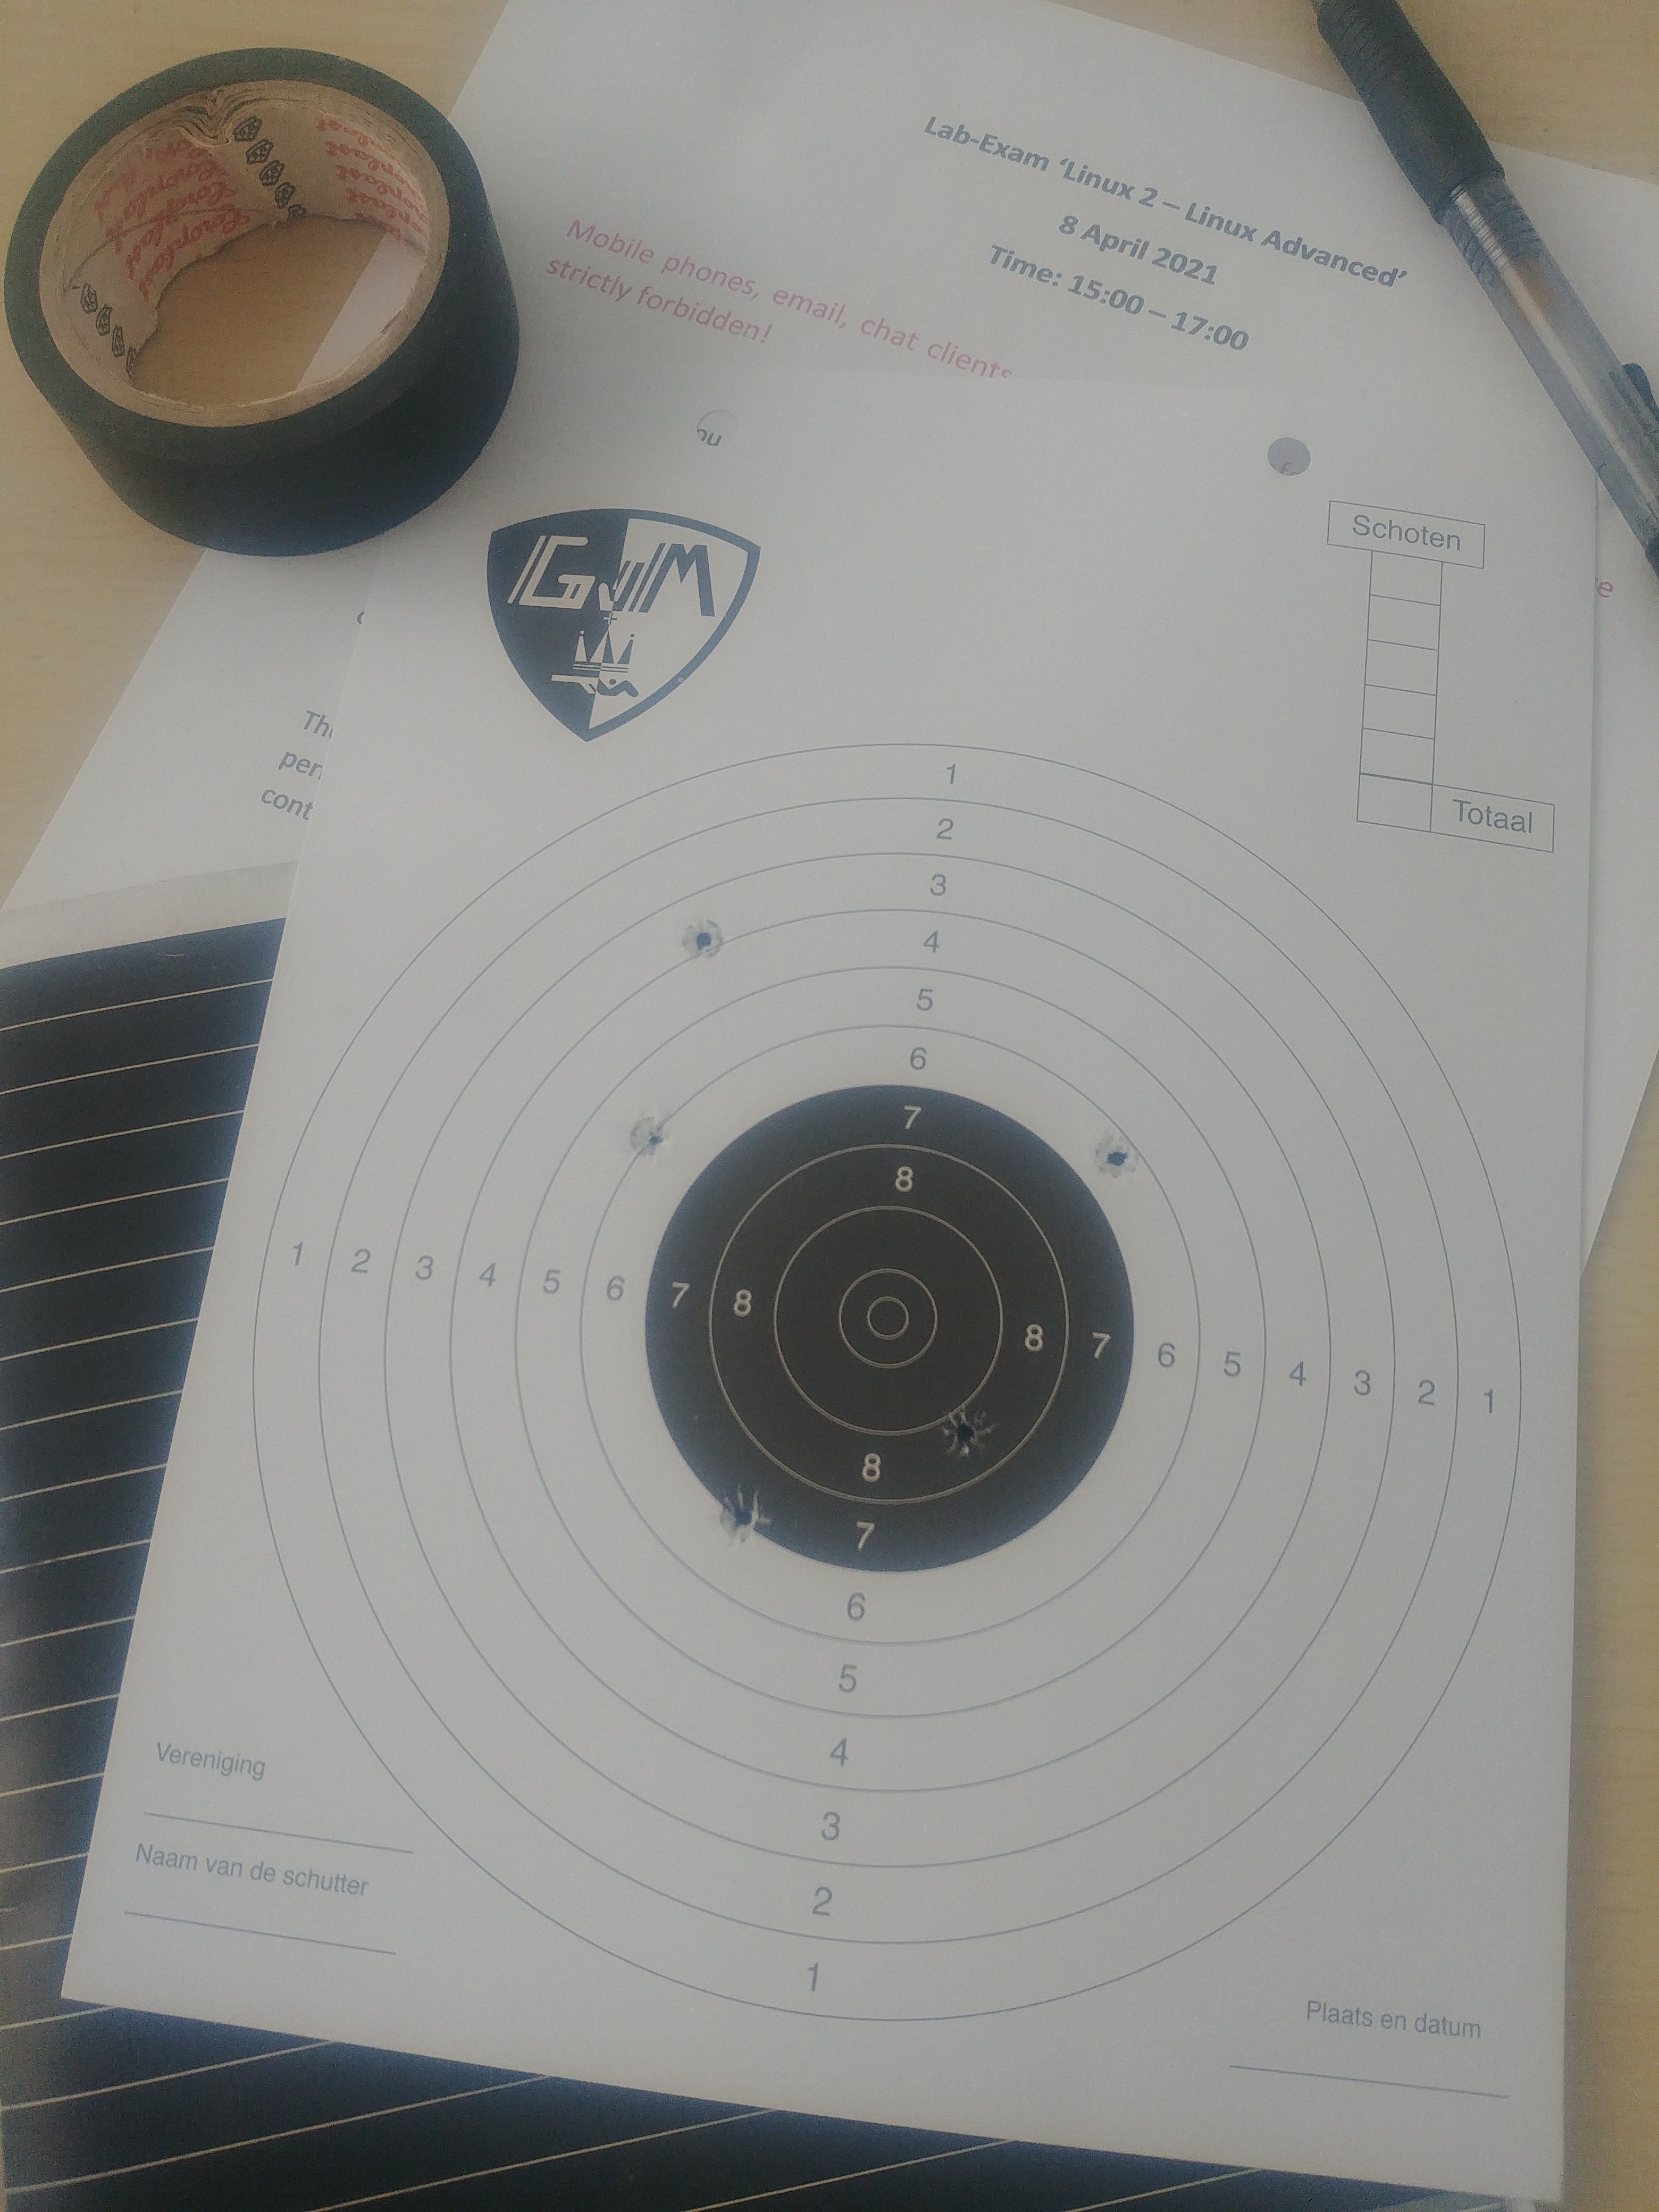center: (643, 1083, 1136, 1573)
out: (247, 740, 1530, 2026)
shot: (713, 1480, 775, 1550), (1091, 1129, 1145, 1184), (934, 1406, 990, 1460), (676, 913, 727, 961), (627, 1111, 674, 1160)
target: (835, 1266, 939, 1371)
